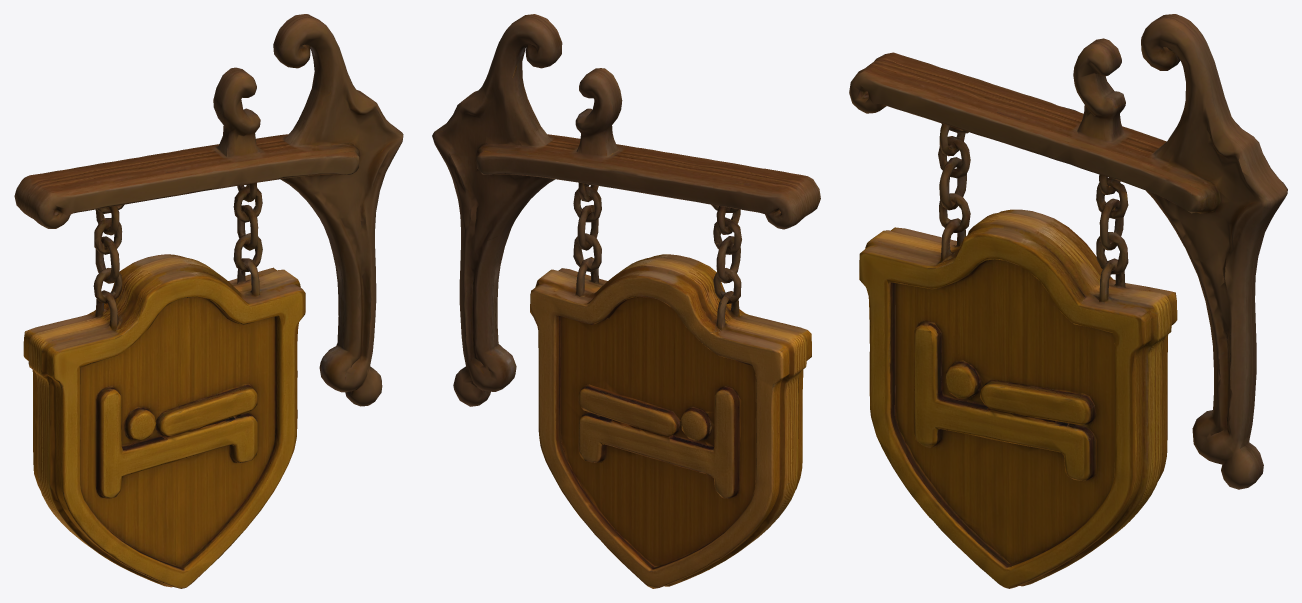
3 renders of one model, left to right at view 1: azimuth 30°, elevation 25°; view 2: azimuth 150°, elevation 25°; view 3: azimuth 330°, elevation 25°, orthographic. The views are drawn at different scales.
Parts seen in each view (by area): view 1: Mesh_0.009; view 2: Mesh_0.009; view 3: Mesh_0.009.
Boxes of the visible parts, left/top/right/bottom form: Mesh_0.009: left=14, top=14, right=403, bottom=588; Mesh_0.009: left=432, top=14, right=820, bottom=588; Mesh_0.009: left=849, top=14, right=1287, bottom=588.
Size of the model in its own units: 1.46 by 2 by 0.2439.
1 material, 1 textured.
